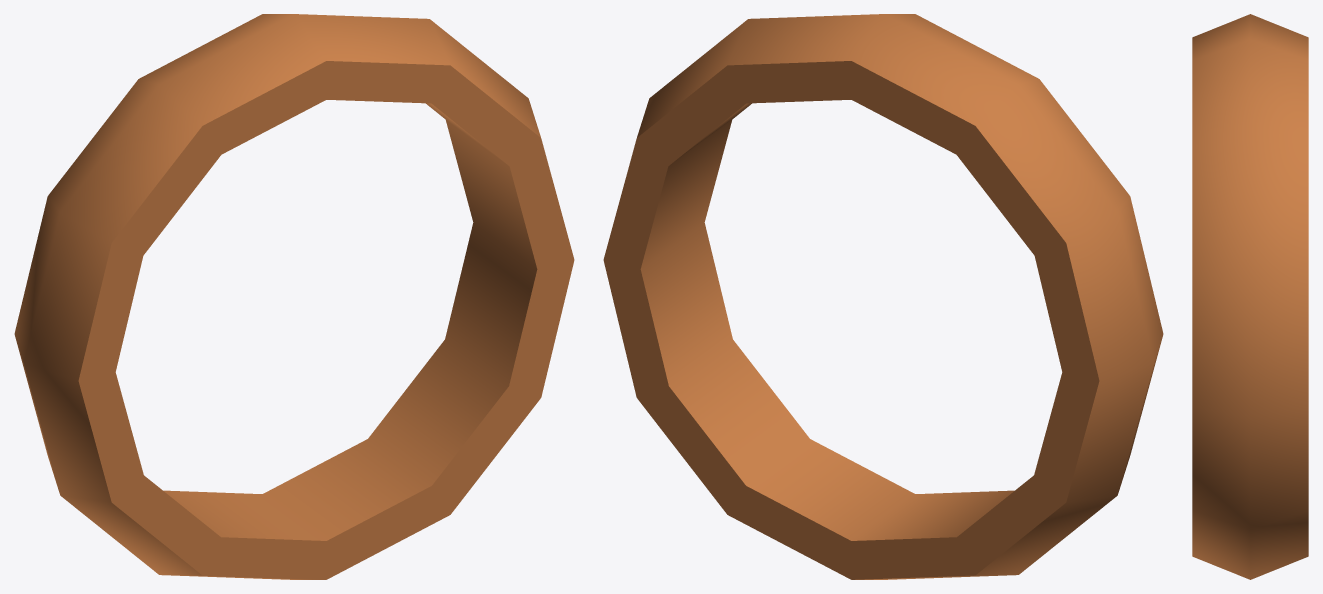
File: Ring_02.fbx
3 views of the same model, side by side, from view 1: azimuth 30°, elevation 25°; view 2: azimuth 150°, elevation 25°; view 3: azimuth 270°, elevation 25° (orthographic). The views are drawn at different scales.
Visible parts, largest first — view 1: Ring_02; view 2: Ring_02; view 3: Ring_02.
Boxes of the visible parts, left/top/right/bottom form: Ring_02: left=14, top=14, right=574, bottom=579; Ring_02: left=603, top=14, right=1163, bottom=579; Ring_02: left=1192, top=14, right=1308, bottom=579.
Size of the model in its own units: 0.0515 by 0.0515 by 0.0106.
